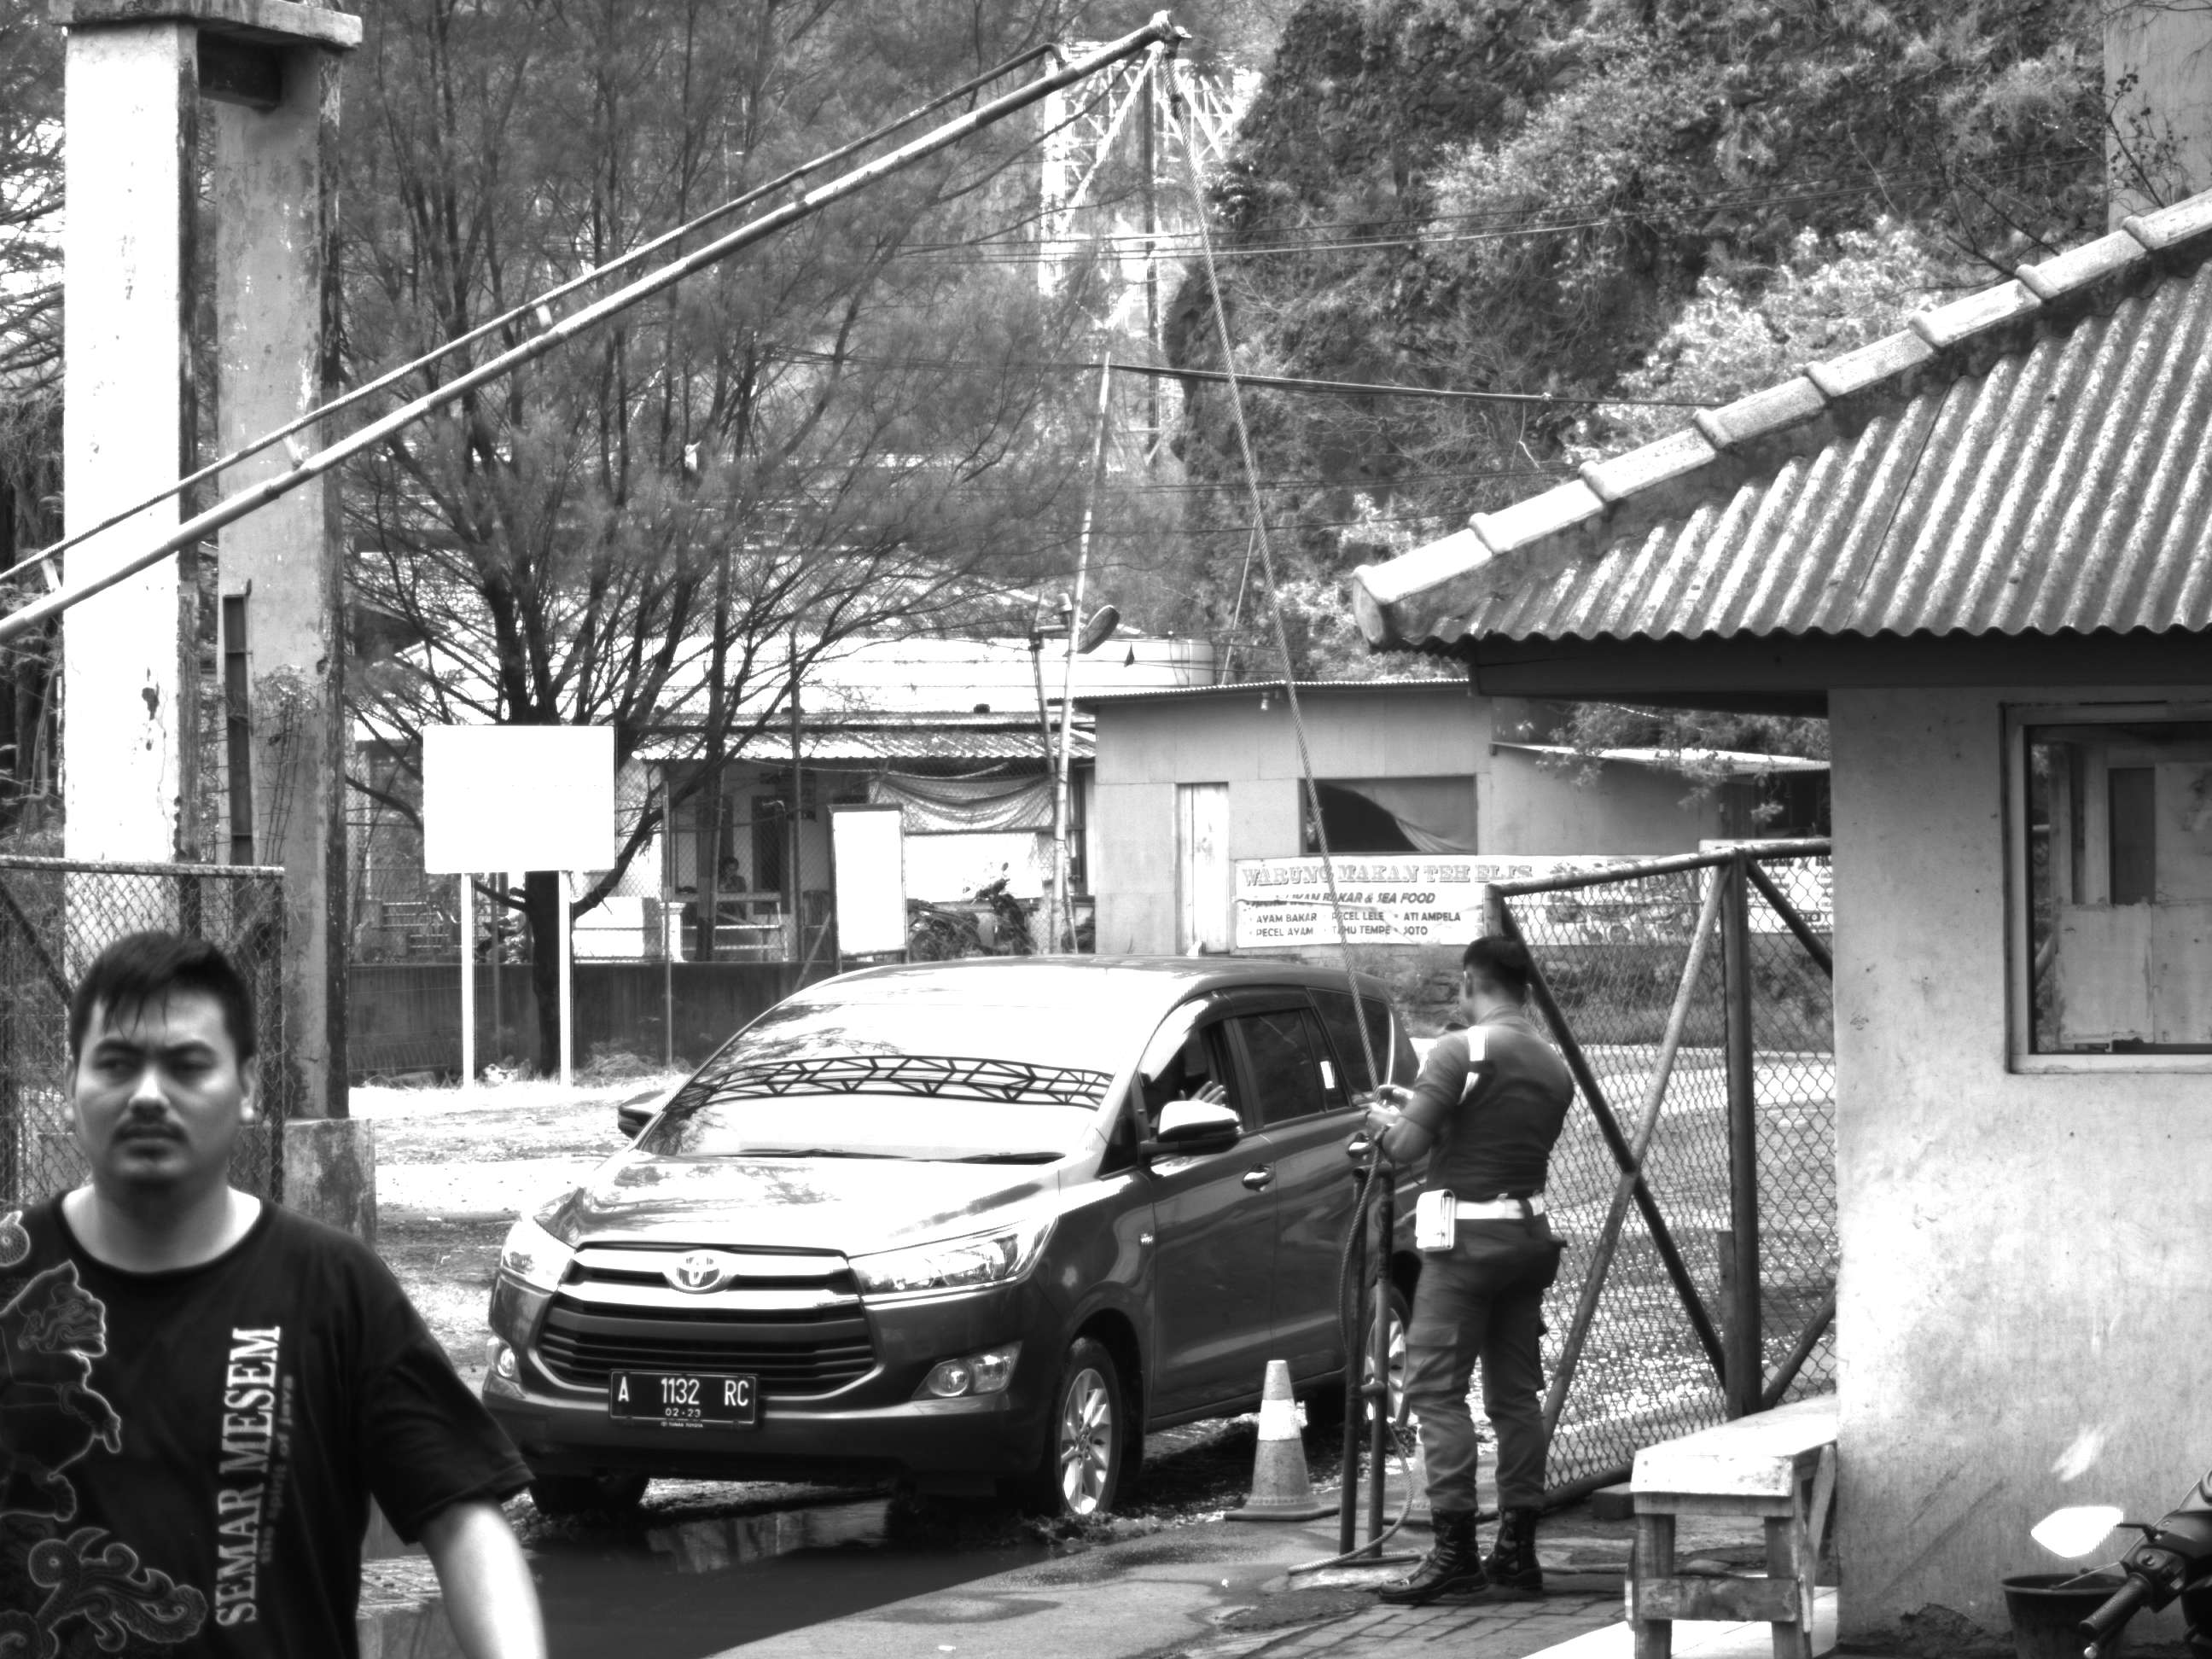day_small_front: (482, 953, 1154, 1522)
plate: (607, 1362, 761, 1424)
